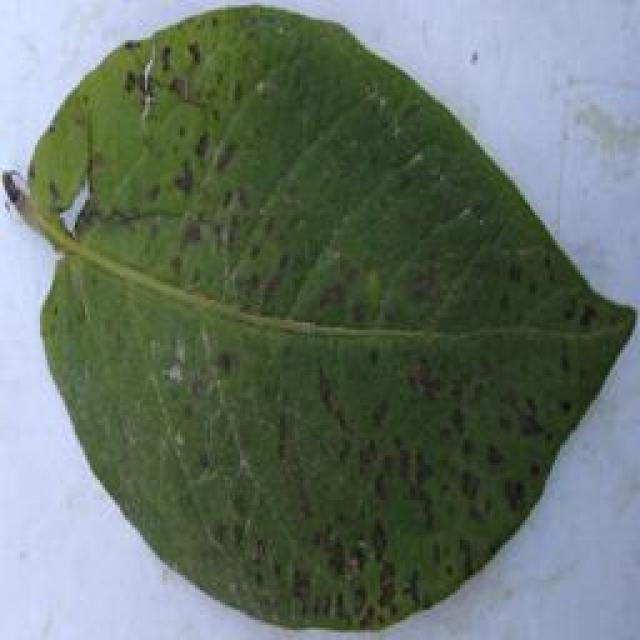Potato_Early_Blight: (13, 5, 640, 635)
